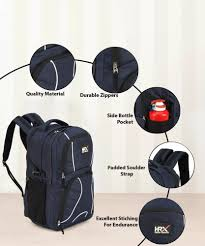backpack: (1, 112, 94, 233)
